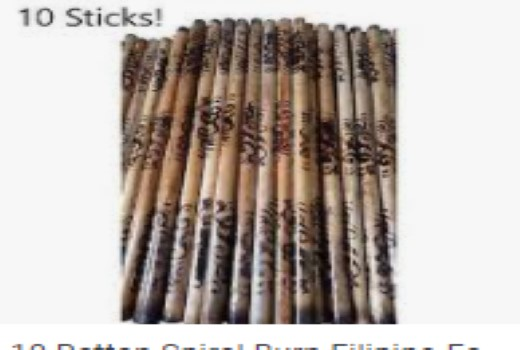baston_e: (229, 28, 264, 296), (333, 30, 365, 282), (350, 39, 385, 267), (274, 26, 297, 309), (293, 26, 316, 294), (260, 24, 279, 320)
baston_v: (128, 290, 166, 338), (175, 286, 204, 331), (324, 295, 353, 332), (225, 291, 248, 332), (369, 303, 405, 329), (245, 298, 272, 332), (290, 295, 314, 333), (161, 291, 182, 333), (197, 291, 220, 329), (269, 300, 292, 334), (351, 304, 372, 334), (205, 13, 221, 31), (120, 29, 139, 43), (233, 13, 250, 28), (189, 12, 204, 29), (173, 22, 190, 37), (347, 22, 363, 37), (366, 20, 381, 36), (221, 12, 236, 28), (261, 15, 276, 30), (332, 20, 347, 34), (146, 33, 159, 48), (136, 33, 149, 48), (275, 15, 292, 26), (157, 33, 174, 44), (250, 13, 263, 26), (291, 13, 304, 25), (315, 20, 330, 29), (303, 21, 315, 29)
